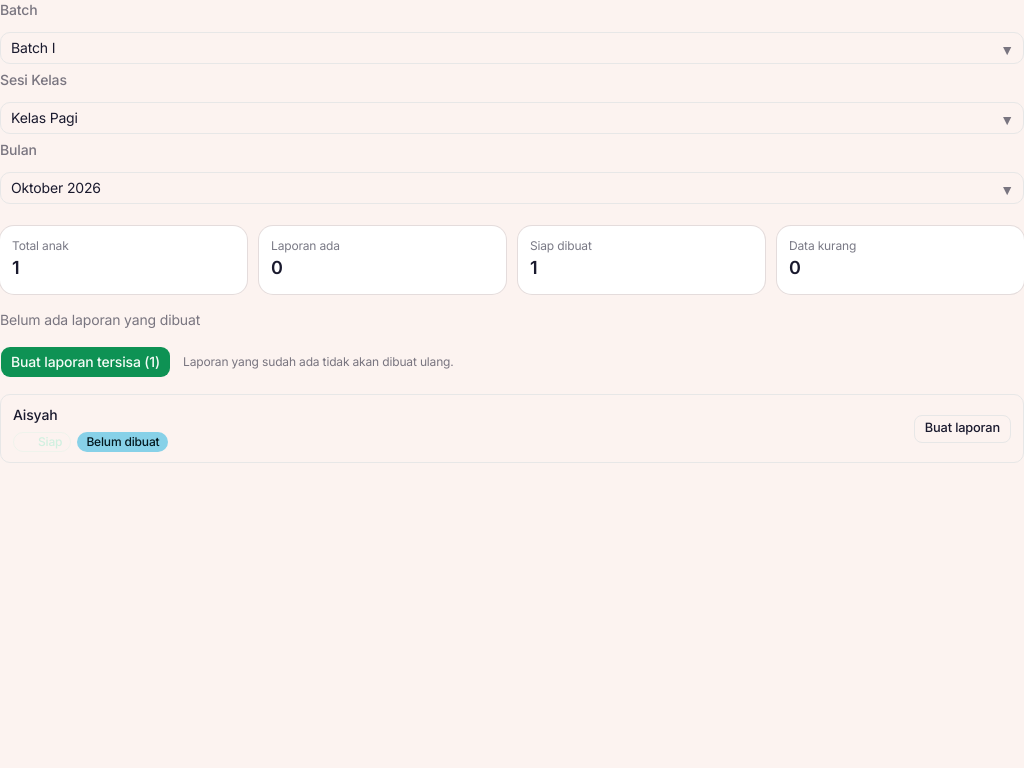
Test: MonthlyReportClient batch generation › counts a conflict as skipped, not failed
This screenshot has width=1024, height=768.
Click the button "Buat laporan tersisa (1)": (86, 362) [0,346,171,378]
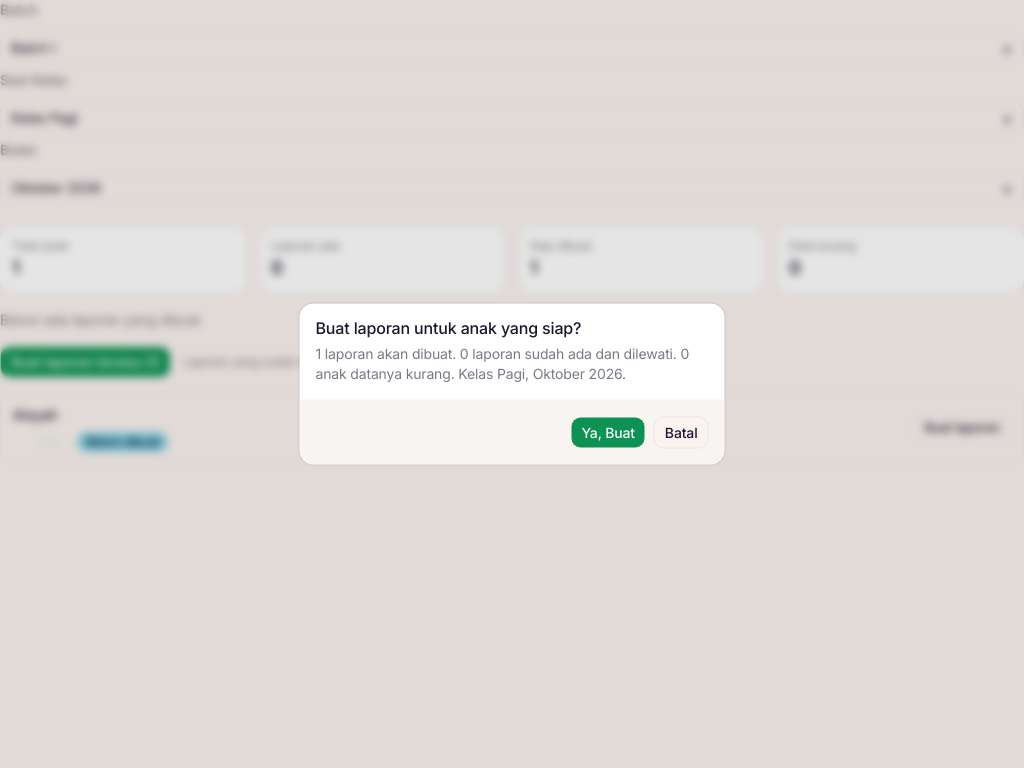
Click the button "Ya, Buat": (608, 432) [570,416,646,448]
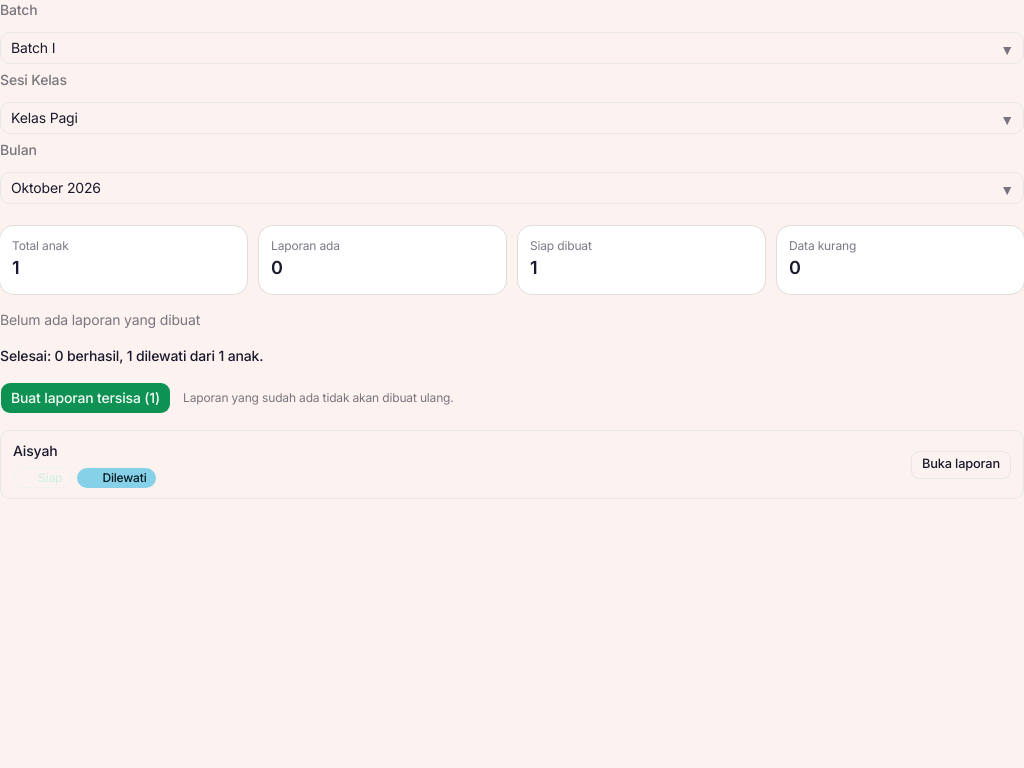
Expected: the text "Selesai: 0 berhasil, 1 dilewati dari 1 anak." is shown, [0,347,263,364]
Expected: the text "Dilewati" is shown, [77,468,156,488]
